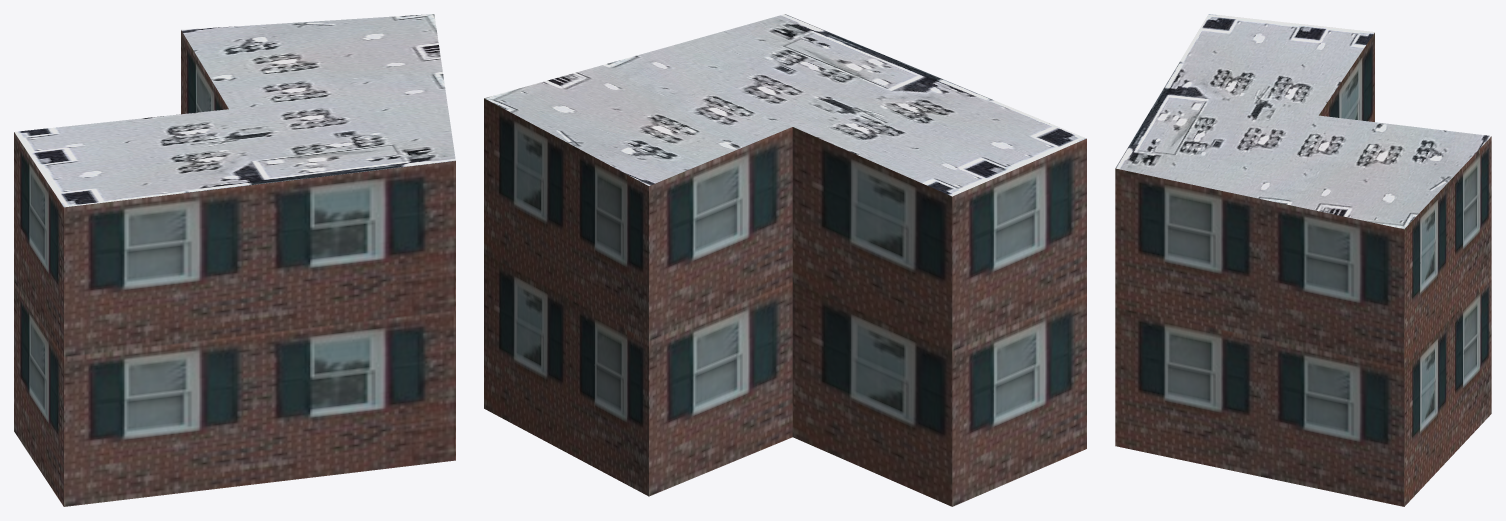
Rendered from ResTex__2621.fbx.
3 views of the same model, side by side, from view 1: azimuth 30°, elevation 25°; view 2: azimuth 150°, elevation 25°; view 3: azimuth 270°, elevation 25° (orthographic). The views are drawn at different scales.
Visible parts, largest first — view 1: CityEngineMaterial_14_m, CityEngineMaterial_8_m; view 2: CityEngineMaterial_14_m, CityEngineMaterial_8_m; view 3: CityEngineMaterial_14_m, CityEngineMaterial_8_m.
Boxes of the visible parts, x1,y1,x2,y2 form: CityEngineMaterial_14_m: (14, 30, 455, 506); CityEngineMaterial_8_m: (14, 14, 455, 207); CityEngineMaterial_14_m: (484, 98, 1086, 506); CityEngineMaterial_8_m: (484, 14, 1086, 196); CityEngineMaterial_14_m: (1115, 33, 1491, 506); CityEngineMaterial_8_m: (1115, 14, 1491, 229).
Bounding box in the file's own units: 9.98 × 6 × 7.38.
Materials: 2 (2 with a texture image).
